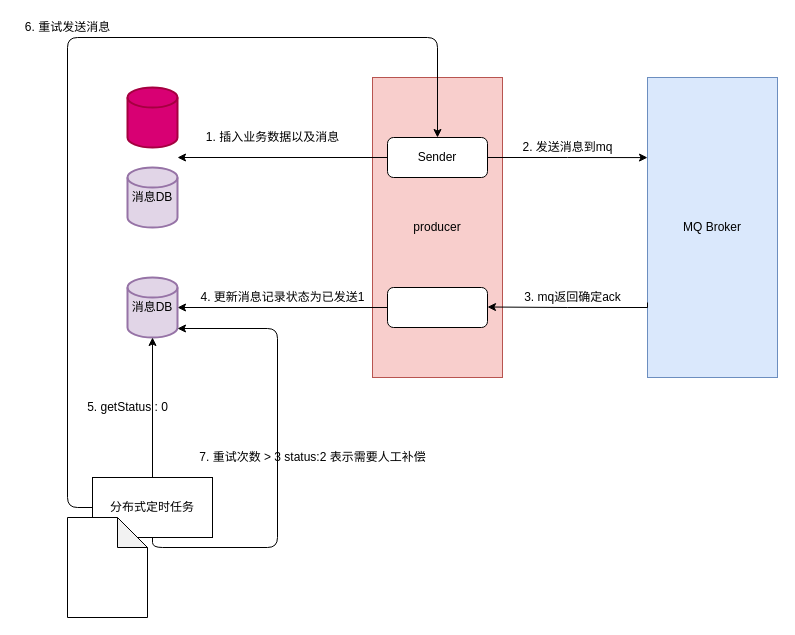
This 795x635 diagram has some shape labels left out. Here are the shapes that lost their labels. From the top down, the centre of each, then its label:
At (152,117): "业务DB".
At (437,307): "Confirm Listener".
At (107,567): "分布式任务定时扫描状态为0的消息".
